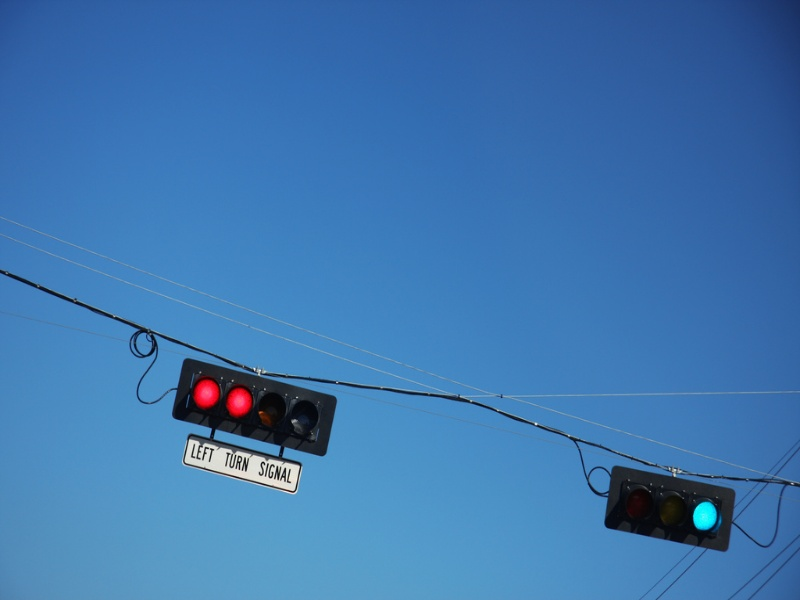green_light: (691, 492, 724, 531)
red_light: (184, 373, 227, 415), (227, 379, 255, 417)
